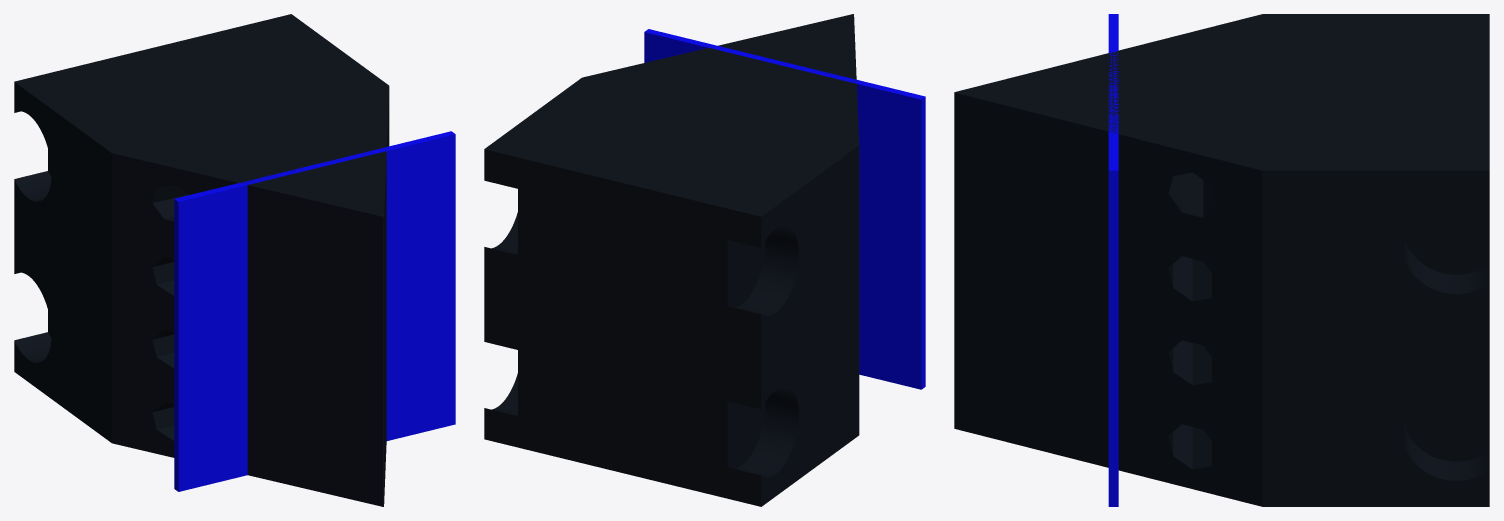
The model's file is Robot_msl2.dae.
3 renders of one model, left to right at view 1: azimuth 30°, elevation 25°; view 2: azimuth 150°, elevation 25°; view 3: azimuth 270°, elevation 25°, orthographic. The views are drawn at different scales.
Parts seen in each view (by area): view 1: node1, node0; view 2: node1, node0; view 3: node1, node0.
Part boxes in pixels (bbox=[...]): node1: bbox=[14, 14, 389, 506]; node0: bbox=[174, 131, 455, 491]; node1: bbox=[484, 14, 859, 506]; node0: bbox=[644, 29, 925, 389]; node1: bbox=[954, 14, 1489, 506]; node0: bbox=[1108, 14, 1118, 506].
Size of the model in its own units: 0.45 by 0.6491 by 0.45.
